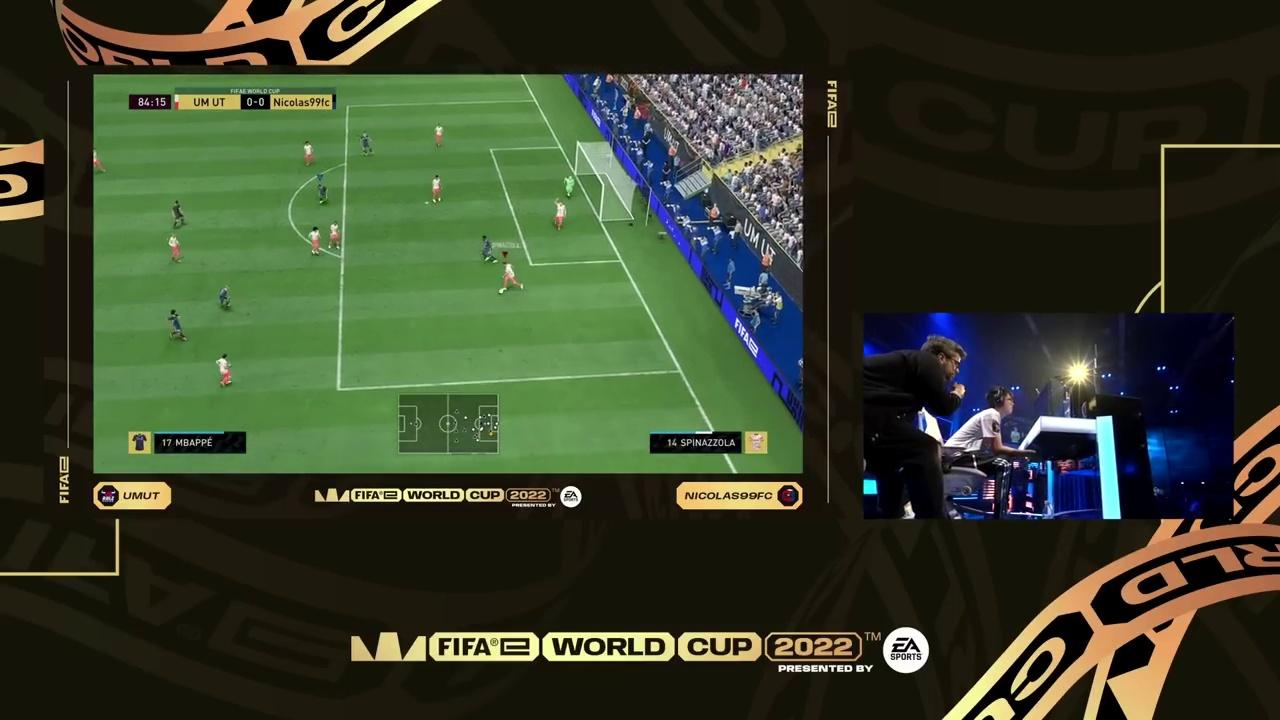scoreboard: (173, 93, 336, 110)
timestamp: (128, 93, 173, 110)
